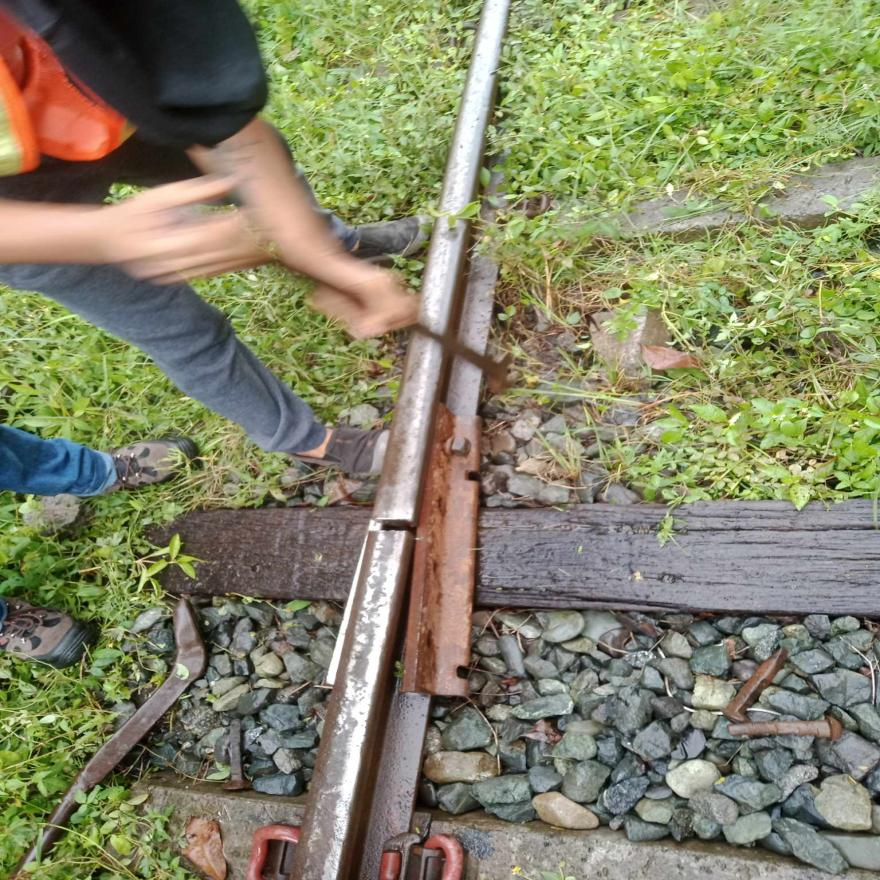railway-gap: (344, 494, 448, 561)
